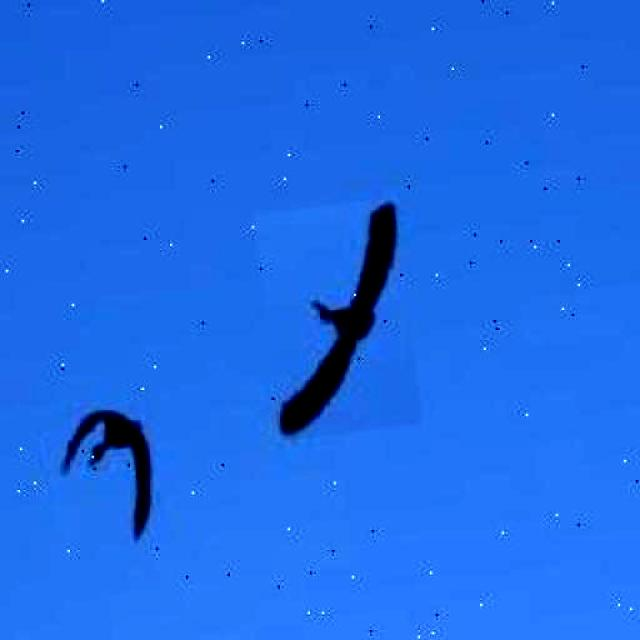airplane: (252, 196, 421, 440), (46, 401, 166, 555)
